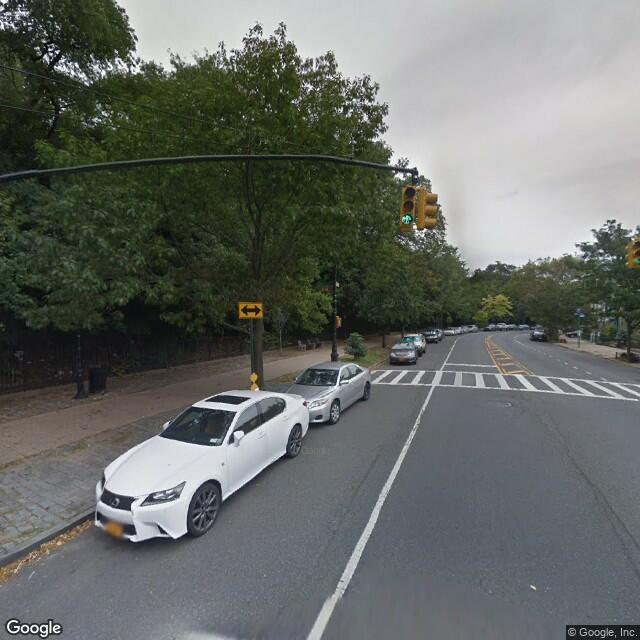litter: (529, 581, 538, 594), (26, 572, 37, 578)
